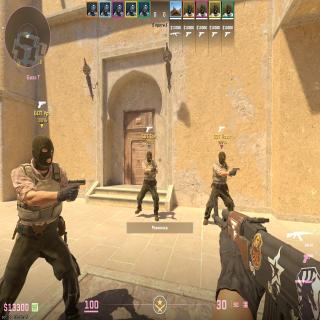T-Body: (11, 135, 68, 311), (206, 151, 232, 211), (142, 151, 159, 221)
T-Head: (32, 135, 54, 168), (218, 151, 226, 164), (146, 152, 152, 162)
